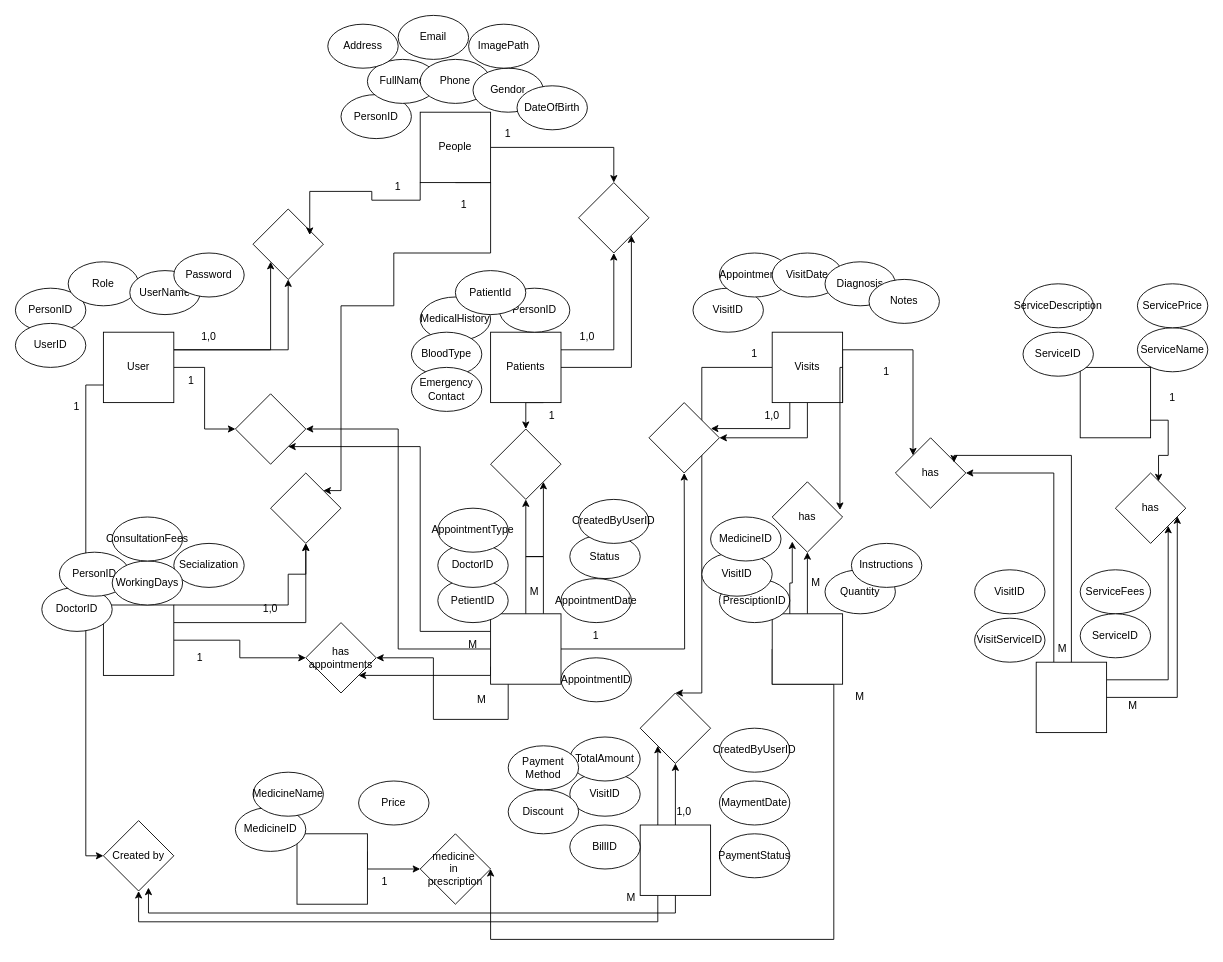
Some shapes in this 1223 by 962 pixel diagram are drawn without their labels. Here are the shapes that lost their labels. From the top down, the centre of each, then its label:
At point 613,217: "is a patient".
At point 287,243: "has account".
At point 1115,402: "Services".
At point 270,428: "creates".
At point 683,437: "results in".
At point 525,463: "patient books appointment".
At point 305,507: "is a doctor".
At point 138,639: "Doctors".
At point 525,648: "Appointments".
At point 807,648: "Prescriptions".
At point 1071,697: "VisitServices".
At point 675,727: "generates".
At point 331,868: "Medicines".
At point 675,859: "Bill".
